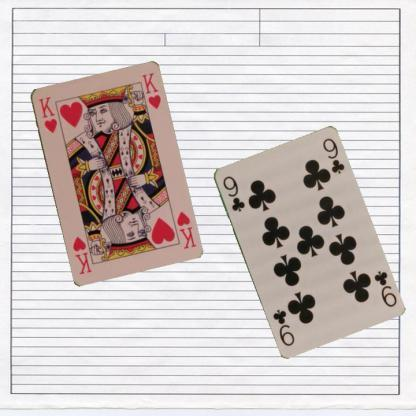9c: (219, 173, 247, 213), (370, 268, 398, 308)
Kh: (174, 208, 197, 250), (36, 94, 58, 134)
